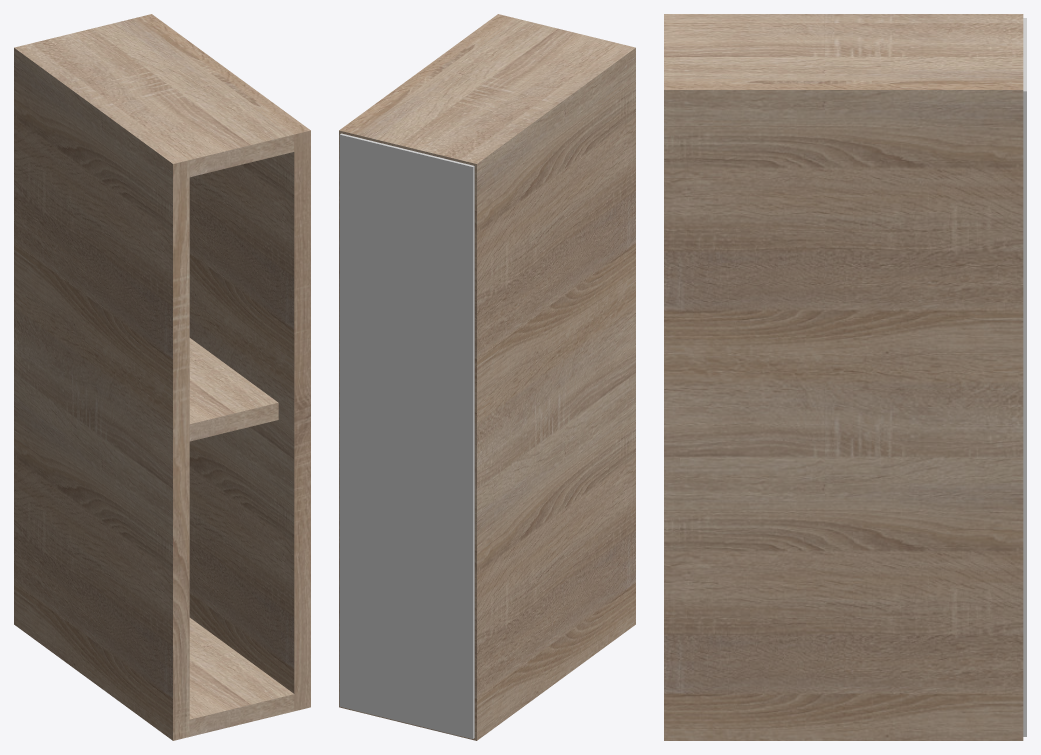
The model's file is s_fny_15.glb.
3 renders of one model, left to right at view 1: azimuth 30°, elevation 25°; view 2: azimuth 150°, elevation 25°; view 3: azimuth 270°, elevation 25°, orthographic. The views are drawn at different scales.
Visible parts, largest first — view 1: s_fny_15_korpusz; view 2: s_fny_15_korpusz; view 3: s_fny_15_korpusz.
Boxes of the visible parts, <box> form: s_fny_15_korpusz: <box>14,14,310,740</box>; s_fny_15_korpusz: <box>339,14,635,740</box>; s_fny_15_korpusz: <box>664,14,1026,740</box>.
Bounding box in the file's own units: 0.15 × 0.6 × 0.303.
2 materials, 1 textured.
